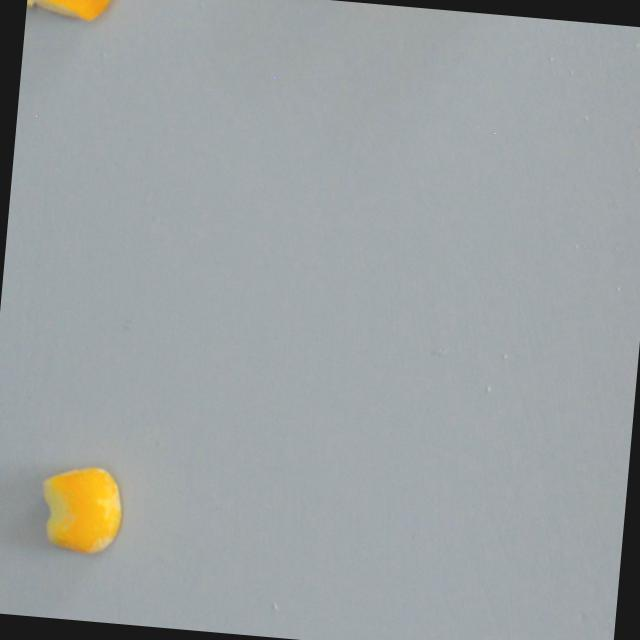pelicula: (36, 462, 127, 557), (25, 0, 120, 25)
